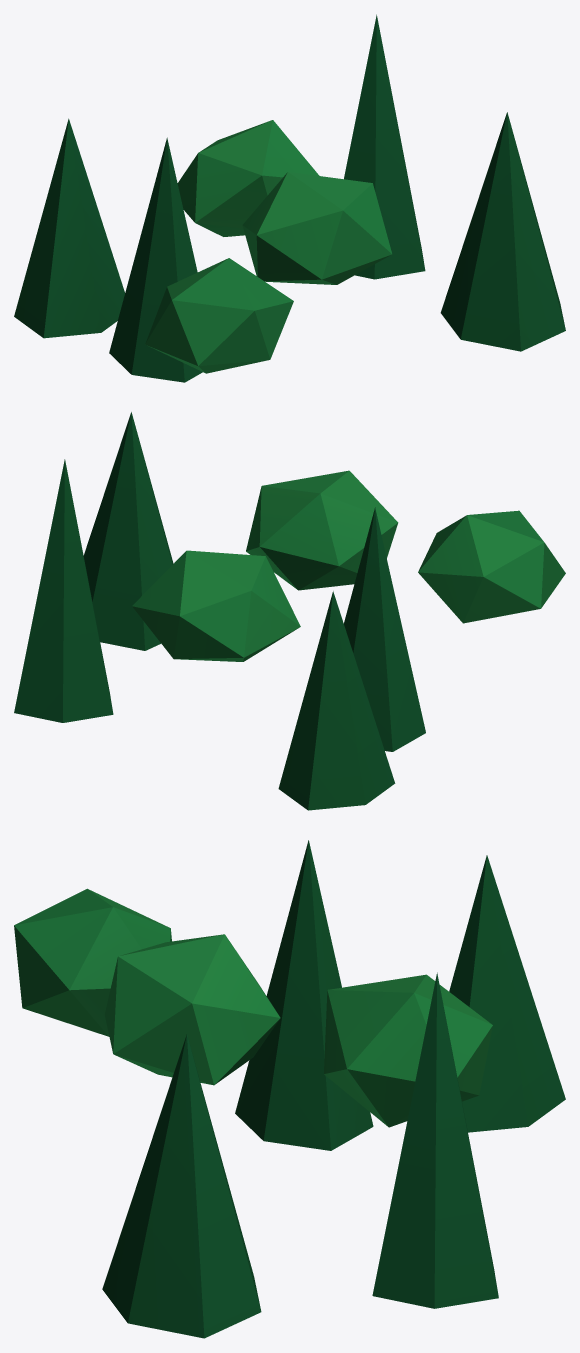
File: forest_clump_mixed.glb
The picture shows the model from 3 angles, top to bottom: view 1: azimuth 30°, elevation 25°; view 2: azimuth 150°, elevation 25°; view 3: azimuth 270°, elevation 25°; orthographic projection. The views are drawn at different scales.
Size of the model in its own units: 23.98 by 12.52 by 20.25.
